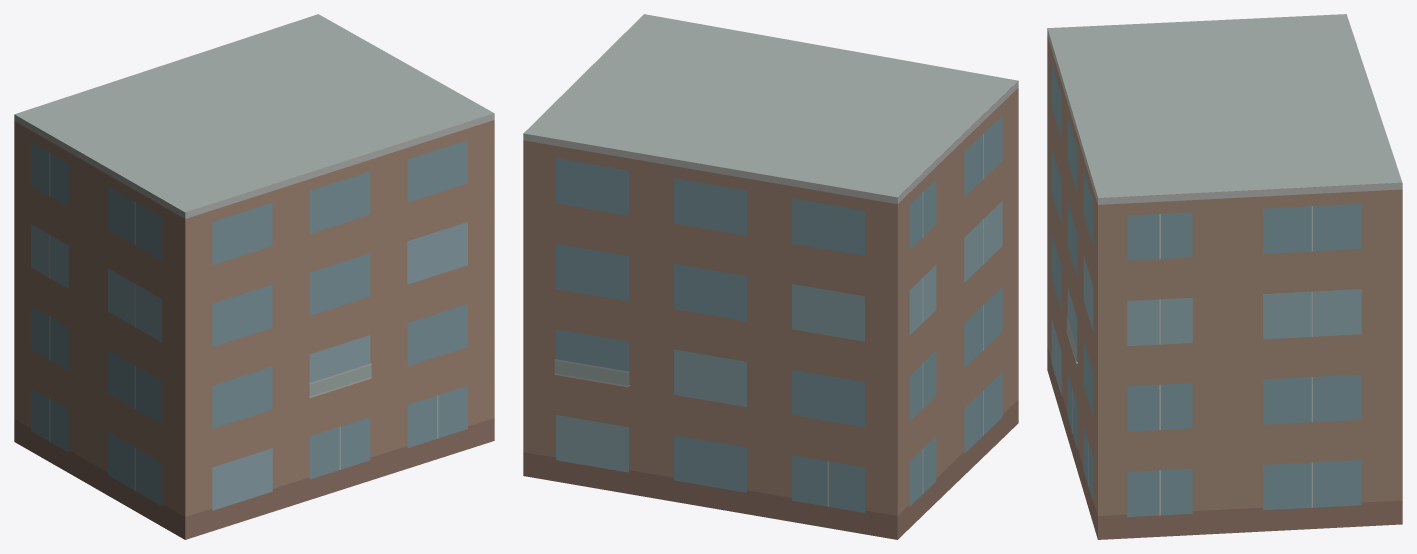
Rendered from survey-upis-32670647.glb.
The picture shows the model from 3 angles, left to right: view 1: azimuth 30°, elevation 25°; view 2: azimuth 150°, elevation 25°; view 3: azimuth 270°, elevation 25°; orthographic projection. The views are drawn at different scales.
Parts seen in each view (by area): view 1: survey-upis-32670647.tmp; view 2: survey-upis-32670647.tmp; view 3: survey-upis-32670647.tmp.
Boxes of the visible parts, box(x1,y1,x2,y2) form: survey-upis-32670647.tmp: box(14, 14, 494, 539); survey-upis-32670647.tmp: box(523, 14, 1018, 539); survey-upis-32670647.tmp: box(1047, 14, 1402, 539).
Bounding box in the file's own units: 14.1 × 12.2 × 11.5.
